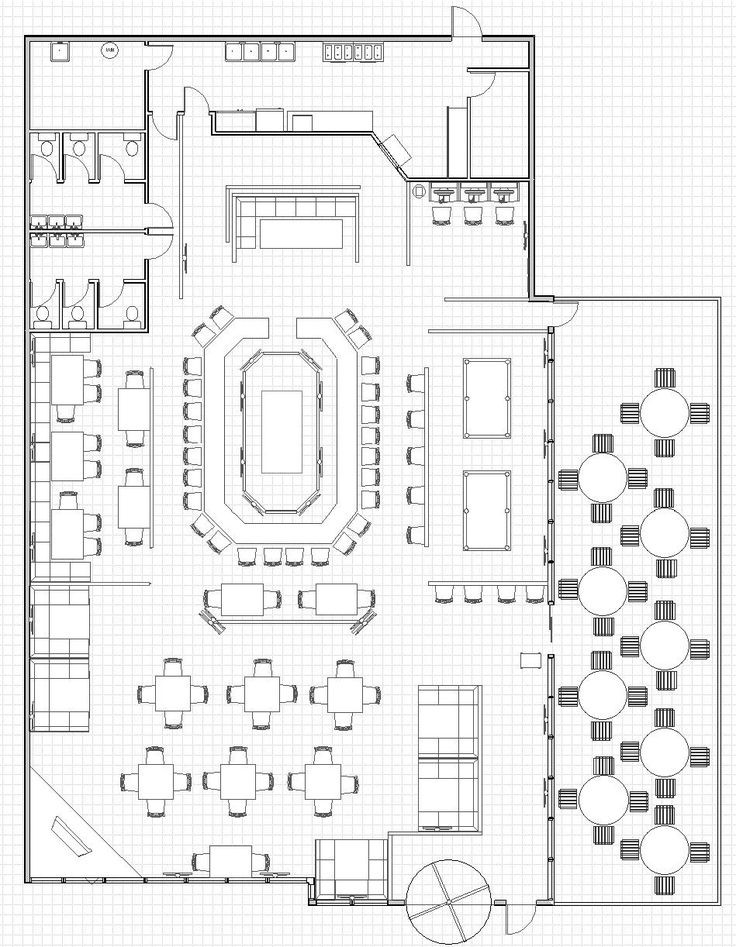door: (32, 276, 135, 321), (31, 150, 131, 190), (137, 200, 186, 263), (539, 299, 608, 334), (441, 2, 489, 36), (460, 67, 499, 107), (150, 112, 184, 147)
